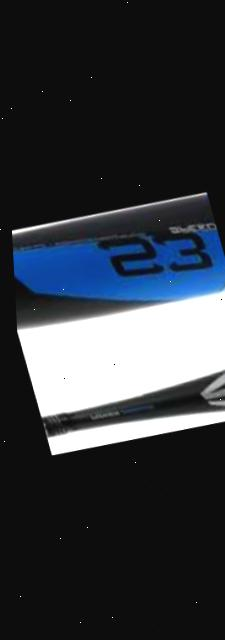baseball bat: (8, 186, 225, 339), (28, 346, 225, 461)
